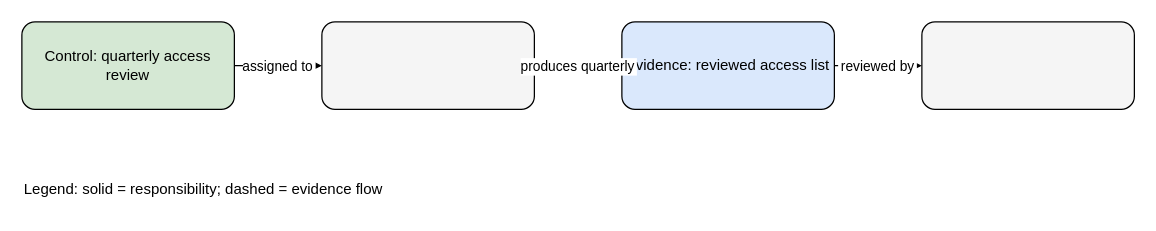
Some shapes in this 1156 by 231 pixel diagram are drawn without their labels. Each missing label, with the box of its shape:
Owner: Security & IT: (321, 21, 534, 109)
Reviewer: internal audit: (921, 21, 1134, 109)
